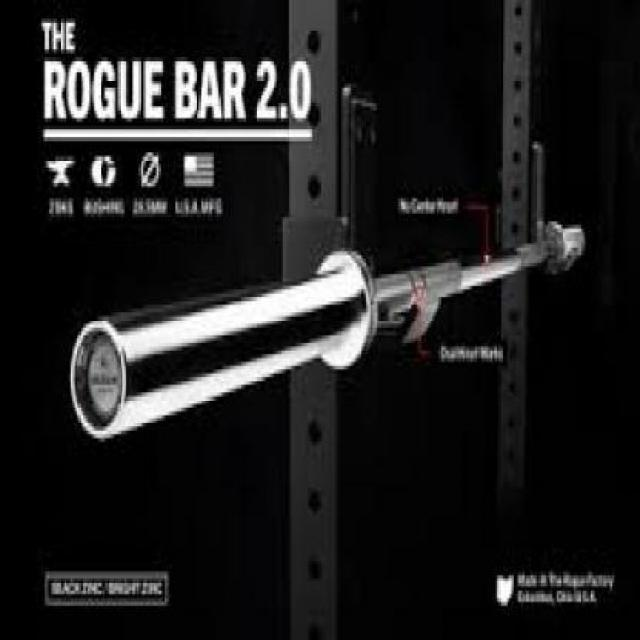Barbell: (64, 312, 138, 454)
